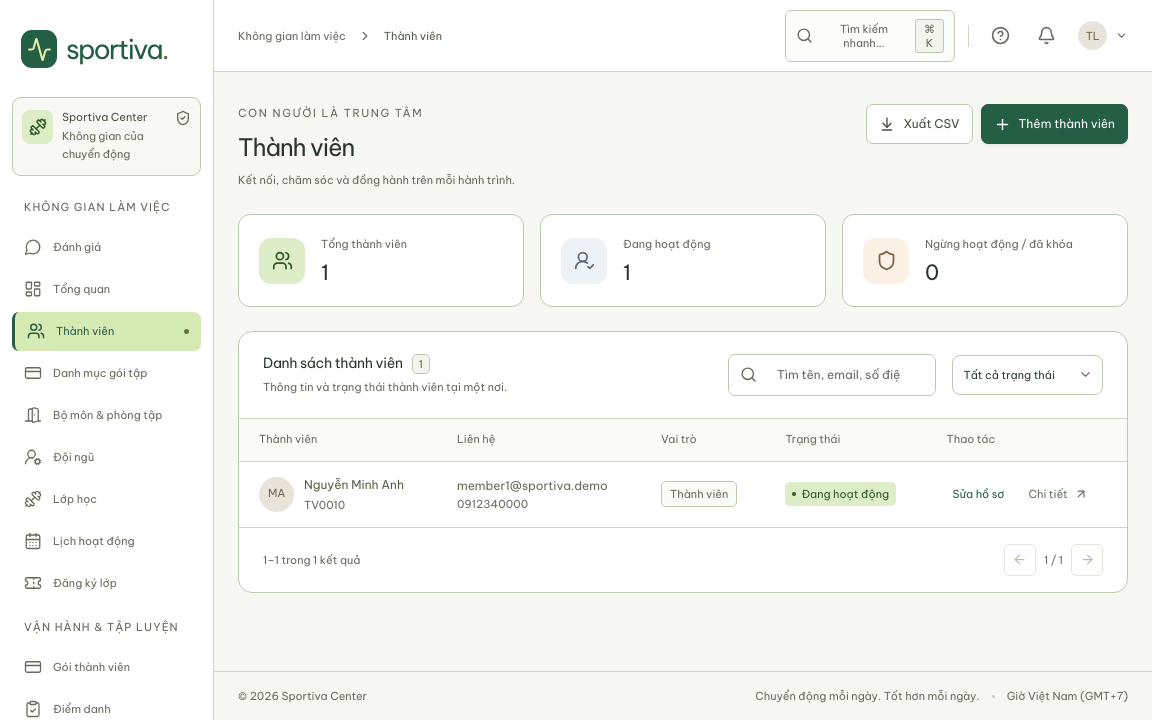
Test case: Quản lý thành viên › renders member search and creation for CENTER_MANAGER
Expected: the heading "Thành viên" is shown, [238,132,354,162]
Type "nguyen minh anh" into the search field named "Tìm thành viên".
click(844, 375); type("nguyen minh anh")  # box [765,355,924,395]
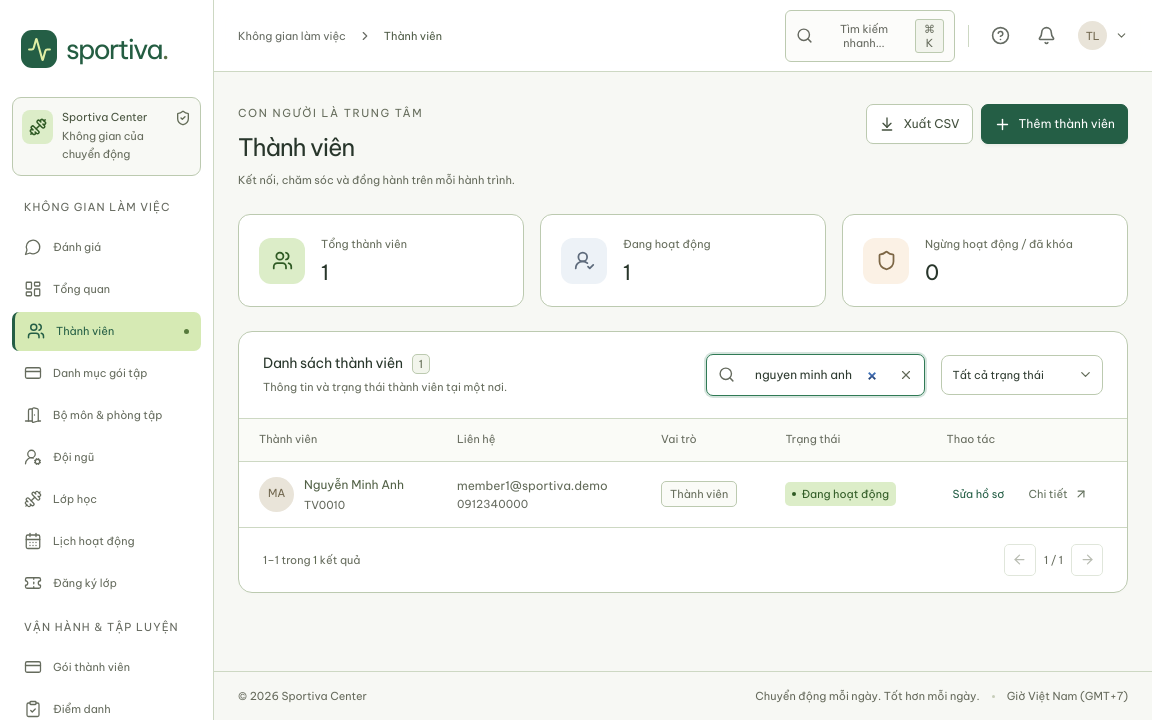
Expected: the button "MA Nguyễn Minh Anh TV0010" is shown, [259,474,404,515]
Clear the search field named "Tìm thành viên" at (817, 375), box [743,355,890,395]
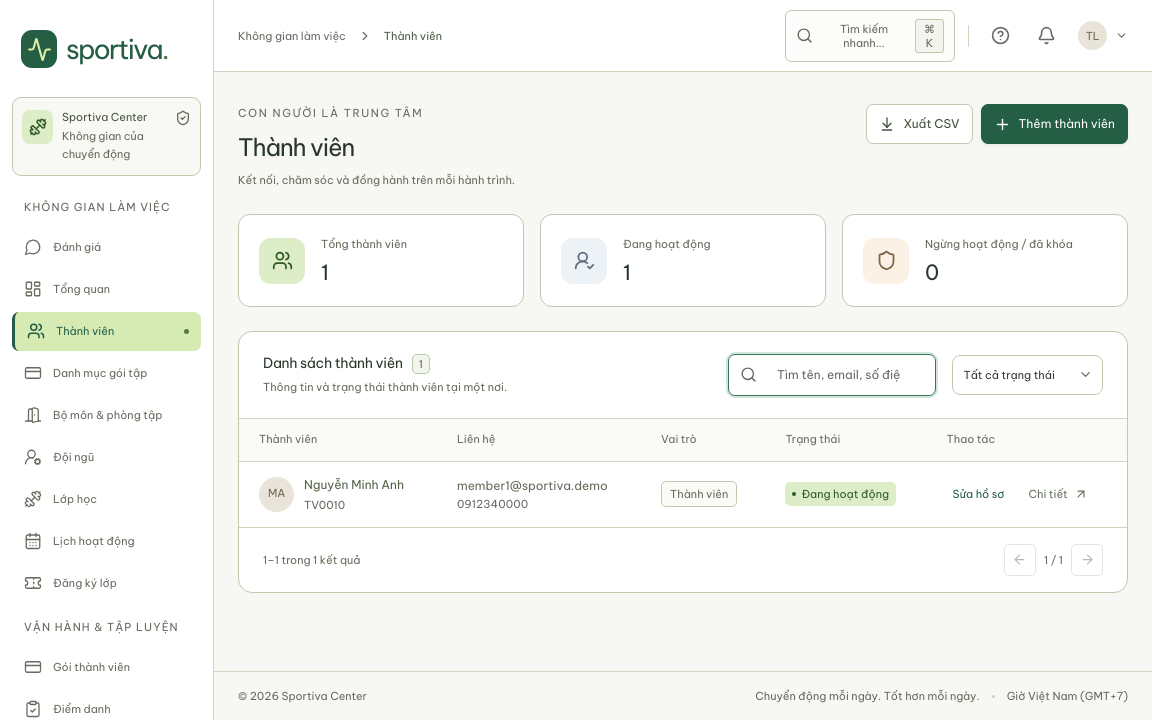
Type "khong-ton-tai" into the search field named "Tìm thành viên".
click(844, 375); type("khong-ton-tai")  # box [765,355,924,395]
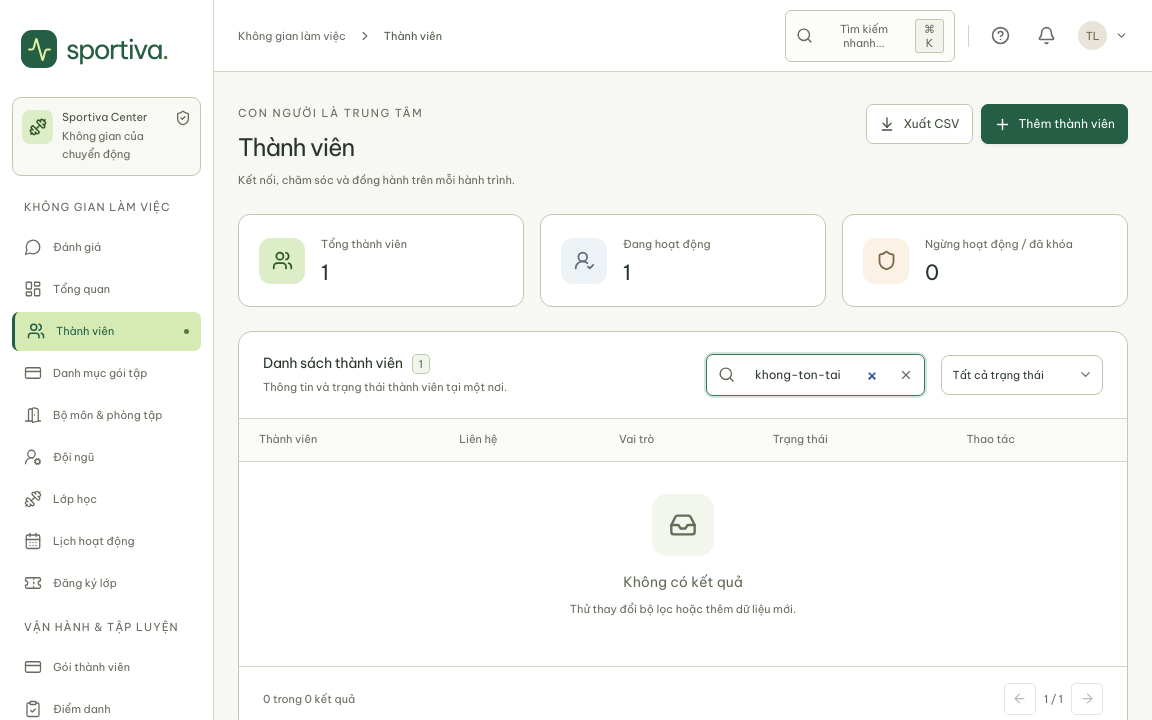
Result: the heading "Không có kết quả" is shown at [623,573,743,591]
Click the button "Thêm thành viên".
click(1054, 124)  # box [980,104,1128,144]
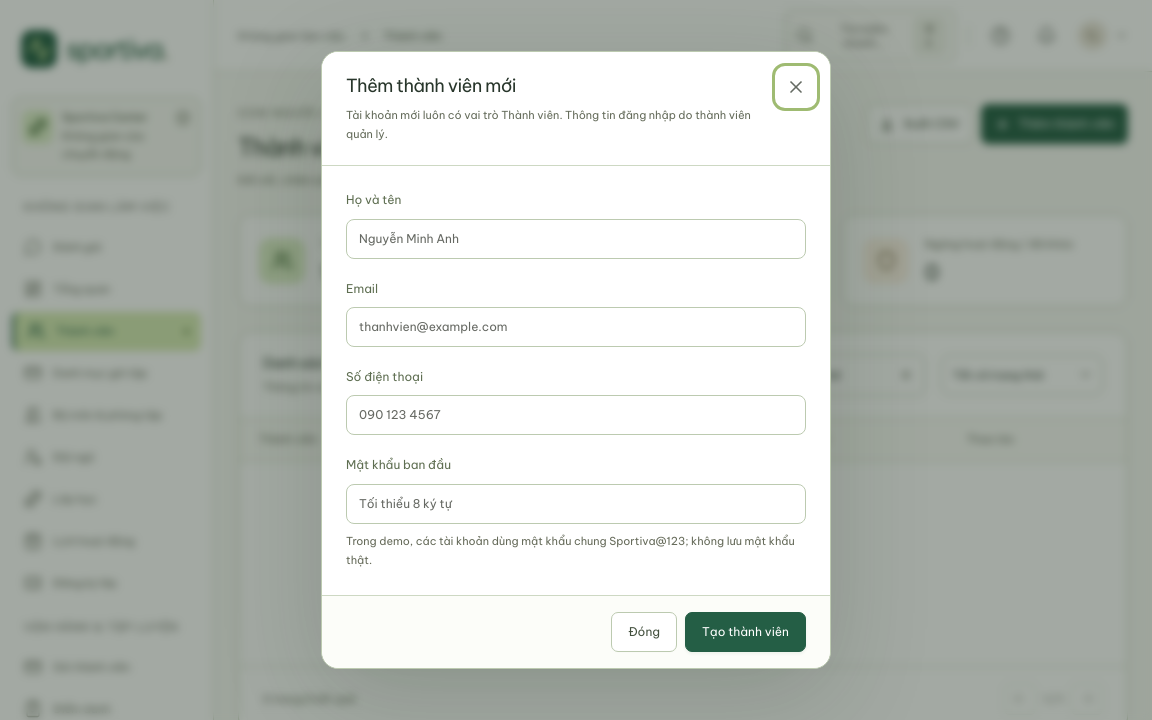
Result: the dialog "Thêm thành viên mới" is shown at [321,51,831,669]
